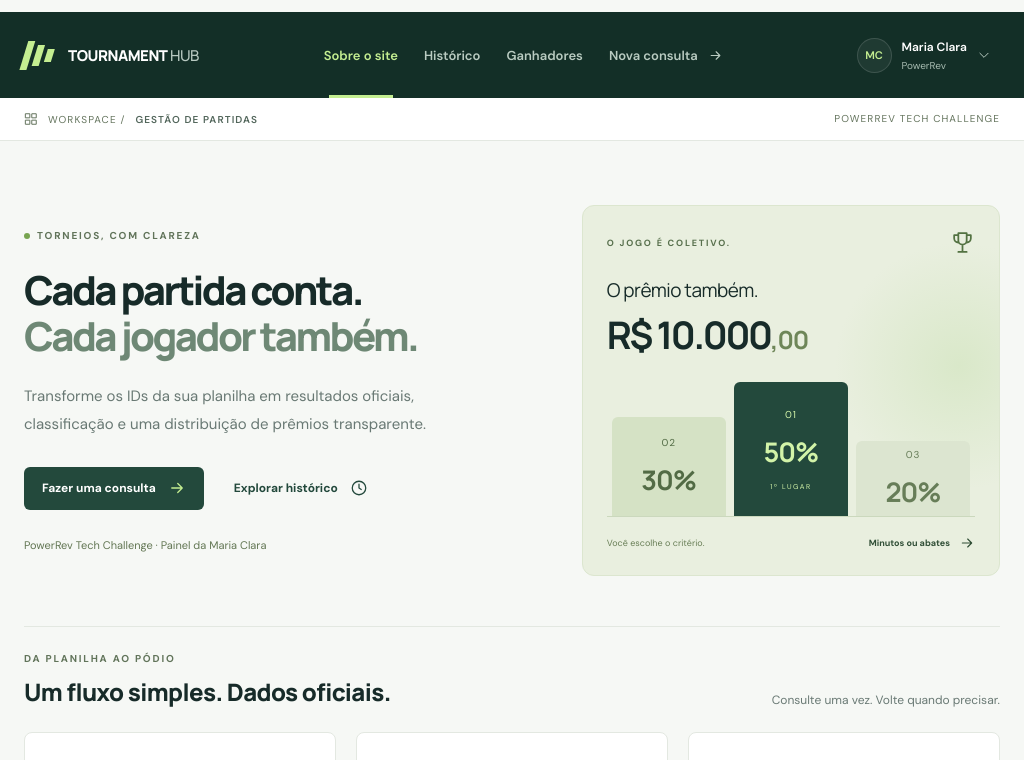
Test: mostra vazio e erro dos ganhadores com opção de tentar novamente
This screenshot has width=1024, height=760.
Click the button "Ganhadores".
click(545, 55)  # box [494,12,596,98]
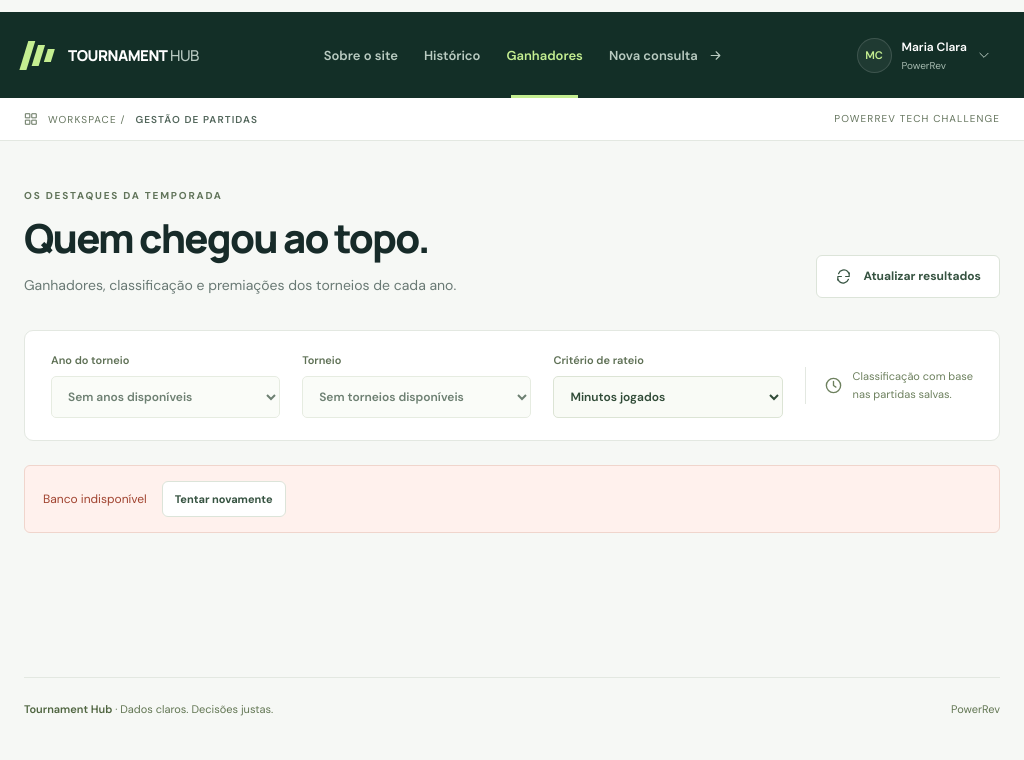
Check: the message "Banco indisponível Tentar novamente" is shown, box [24,465,1000,534]
Click the button "Tentar novamente".
click(224, 499)  # box [162,481,286,518]
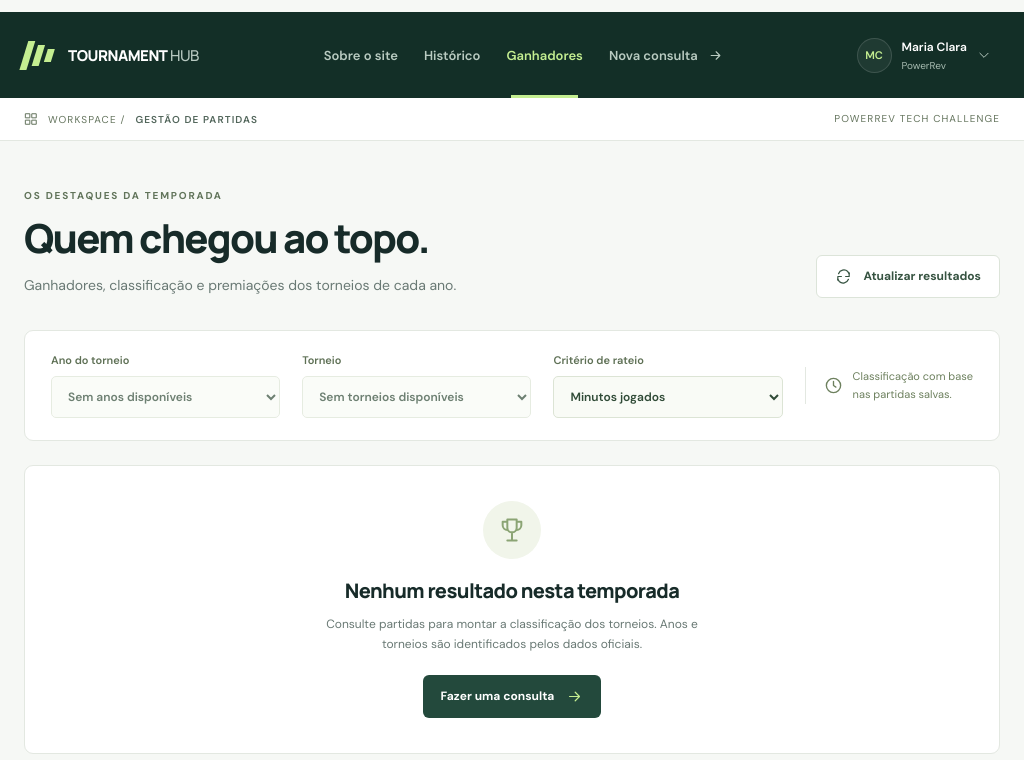
Check: the text "Nenhum resultado nesta temporada" is shown, box [345,577,679,604]
